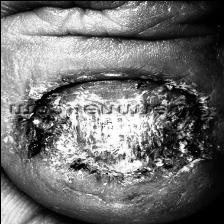Toxin: (7, 116, 222, 185), (18, 68, 205, 100)
